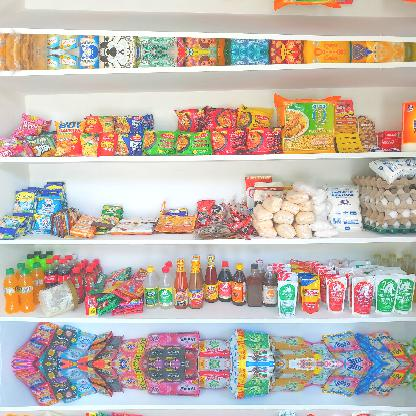Lady-s-Choice: (36, 276, 80, 318)
